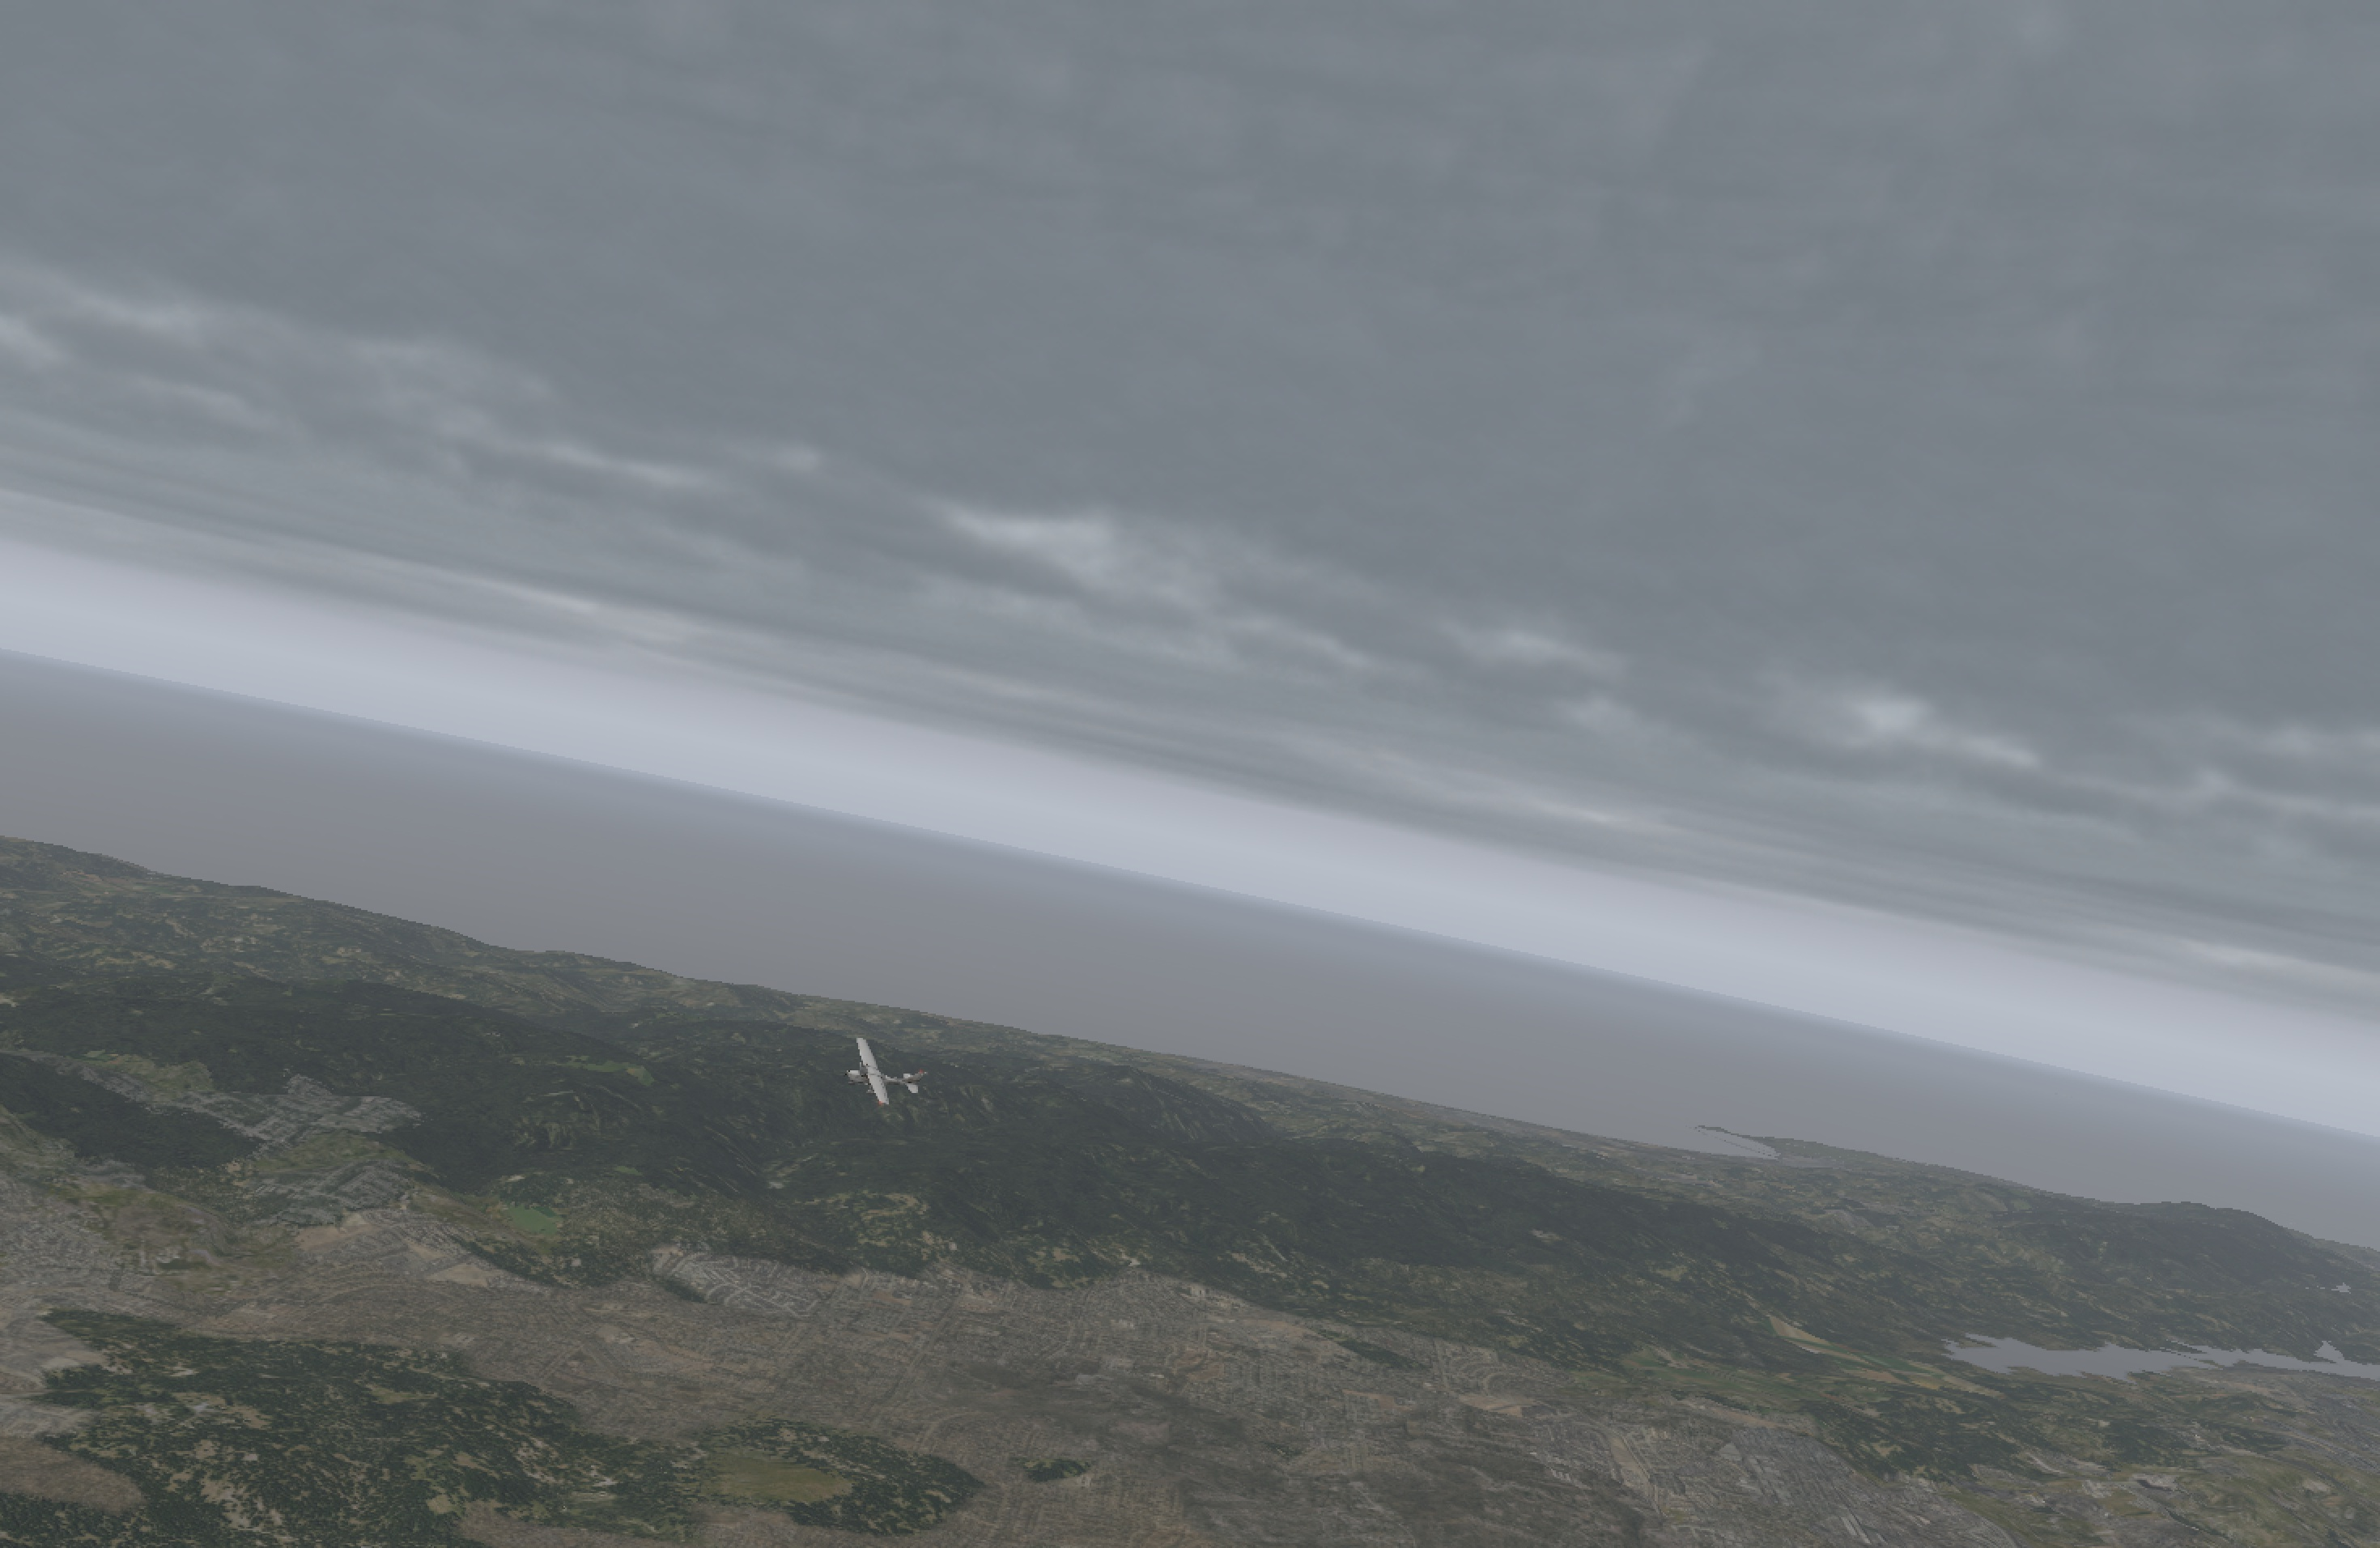aircraft: (829, 1060, 907, 1090)
